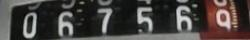digits: (94, 8, 117, 40), (134, 5, 155, 36), (175, 4, 193, 30), (57, 10, 74, 36), (22, 12, 37, 38), (214, 9, 232, 28)
